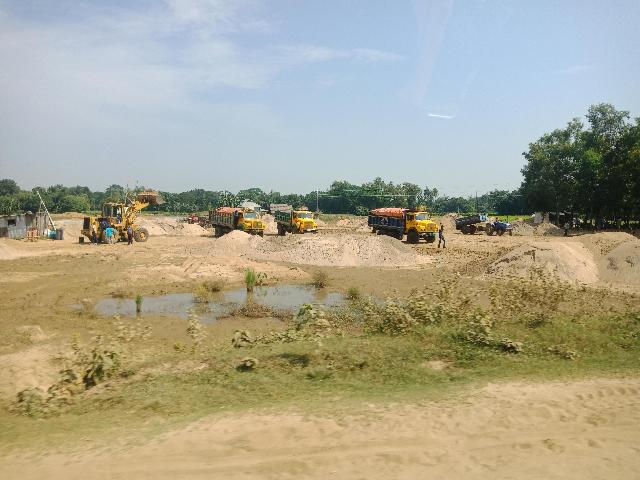truck: (366, 194, 435, 243), (453, 209, 511, 244), (207, 203, 261, 234), (276, 212, 318, 234)
